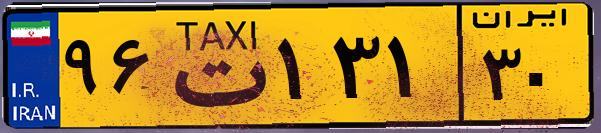0: (525, 38, 570, 115)
1: (270, 28, 330, 110), (385, 28, 445, 110)
3: (330, 28, 385, 110), (475, 38, 525, 113)
6: (110, 28, 158, 98)
9: (57, 26, 110, 100)
ت: (158, 12, 270, 120)
